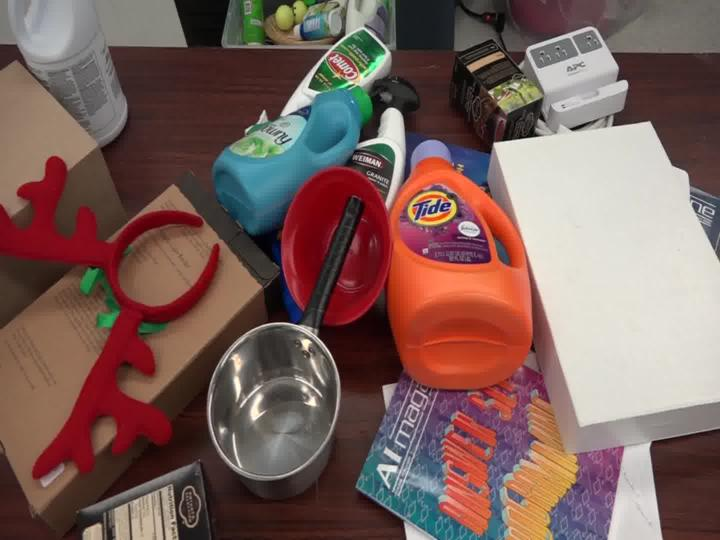tide: (361, 114, 552, 395)
